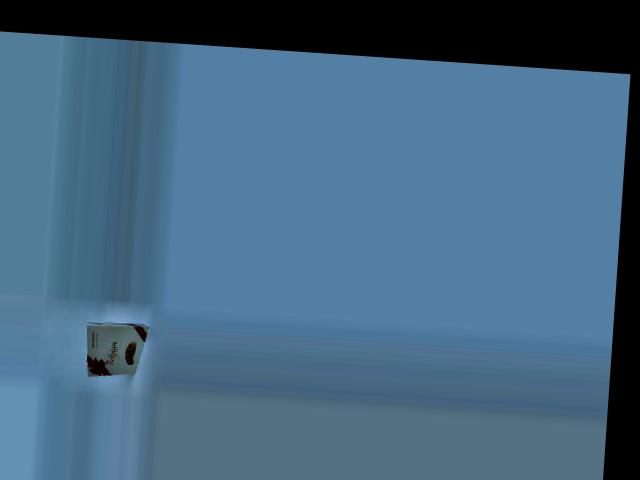chocolate: (84, 308, 152, 381)
